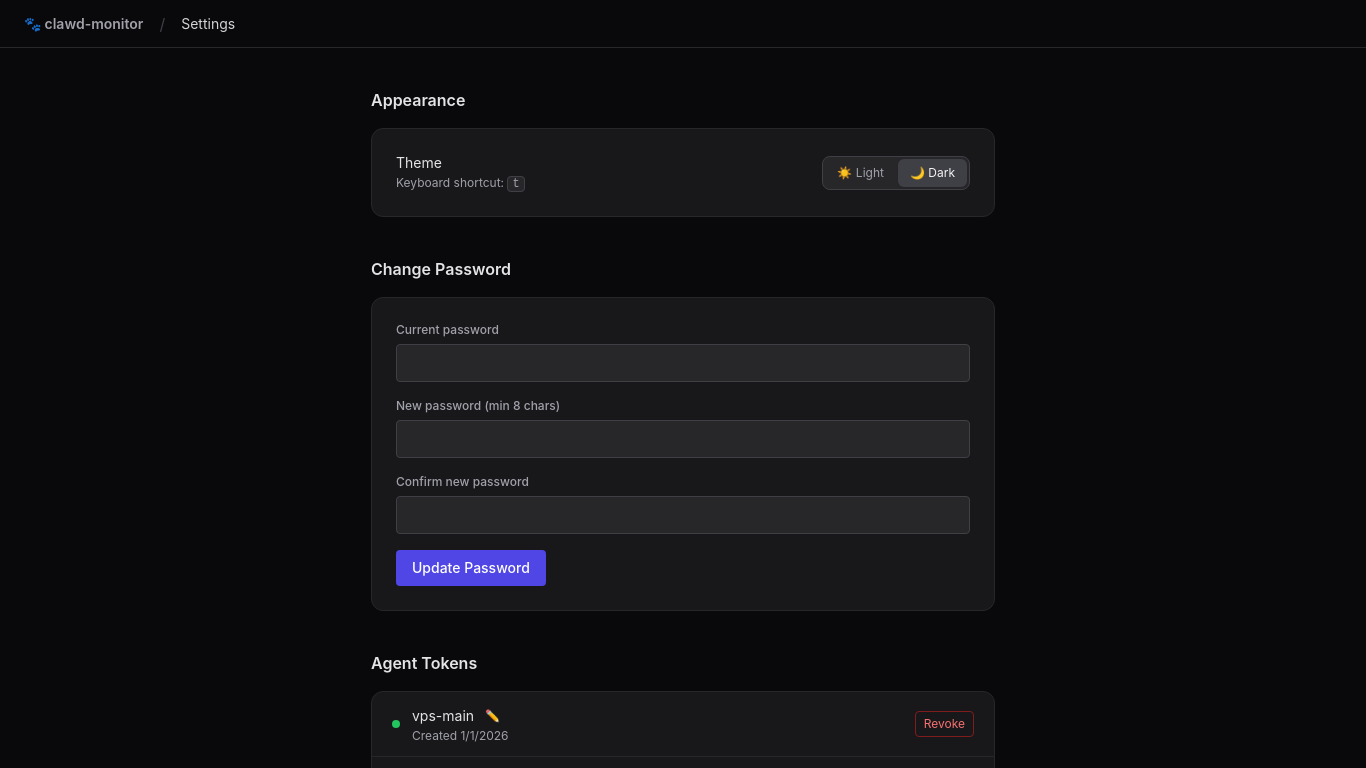
Test: token revoke › shows an alert and keeps the token on a network error
The width and height of the screenshot is (1366, 768).
Click the button "Revoke": [944, 724] box [915,711,974,737]
(page scrolled)
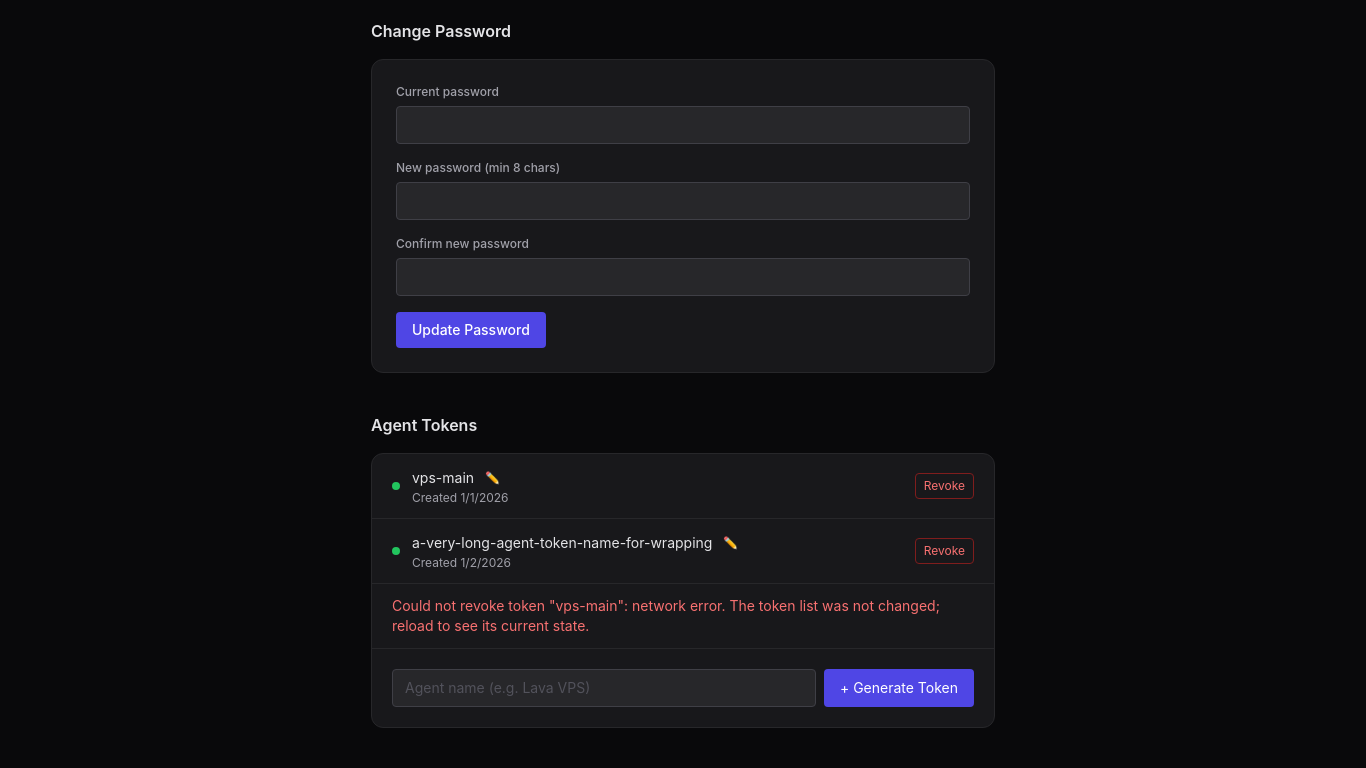
Now the message shows "network error", box [392,597,940,634]
